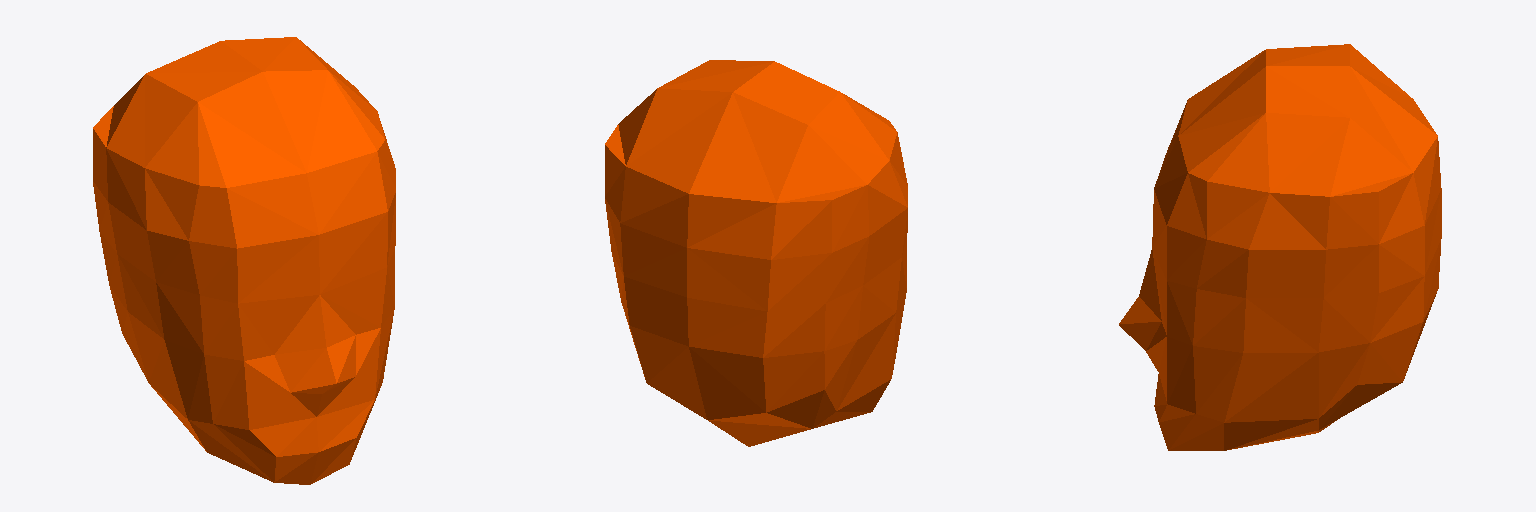
File: head.obj
3 views of the same model, side by side, from view 1: azimuth 30°, elevation 25°; view 2: azimuth 150°, elevation 25°; view 3: azimuth 270°, elevation 25° (orthographic).
Visible parts, largest first — view 1: pCube10; view 2: pCube10; view 3: pCube10.
Part boxes in pixels (x1,y1,x2,y2): pCube10: (93, 37, 395, 484); pCube10: (605, 60, 907, 446); pCube10: (1119, 44, 1441, 450).
Size of the model in its own units: 5.4 by 7.84 by 6.06.